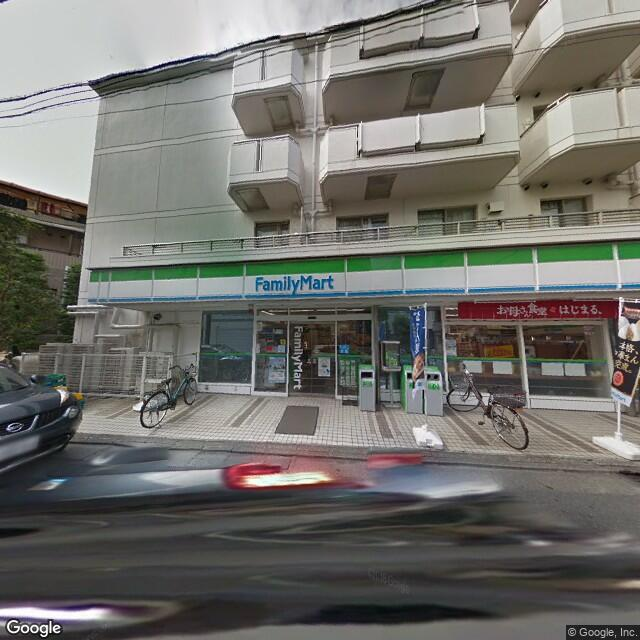family_mart: (87, 235, 639, 307), (251, 270, 340, 296), (286, 322, 309, 394)
